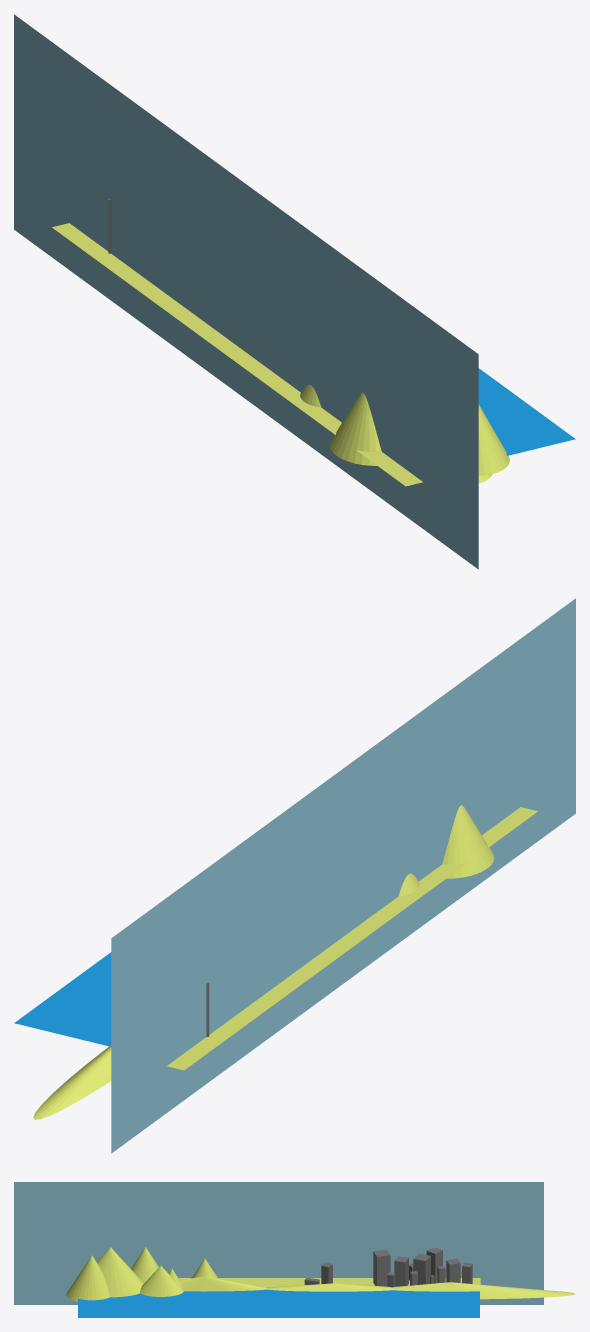
The model's file is background prototype.fbx.
3 renders of one model, top to bottom at view 1: azimuth 30°, elevation 25°; view 2: azimuth 150°, elevation 25°; view 3: azimuth 270°, elevation 25°, orthographic. The views are drawn at different scales.
Parts seen in each view (by area): view 1: Plane.001, Plane.002, Plane, Cone.007, Cone; view 2: Plane.001, Plane.002, Plane, Cone.007, Cone.006; view 3: Plane.001, Plane, Cone.006, Cone.001, Cone, Plane.002, Cone.004, Cone.003, Cone.005, Cube.002, Cone.007, Cube.004 (+6 smaller).
Boxes of the visible parts, box(x1,y1,x2,y2) form: Plane.001: box(14, 14, 478, 569); Plane.002: box(52, 223, 422, 486); Plane: box(478, 368, 575, 455); Cone.007: box(329, 392, 381, 465); Cone: box(478, 404, 509, 475); Plane.001: box(111, 598, 575, 1153); Plane.002: box(167, 807, 537, 1070); Plane: box(14, 952, 111, 1046); Cone.007: box(442, 805, 494, 878); Cone.006: box(33, 1045, 111, 1119); Plane.001: box(14, 1182, 543, 1304); Plane: box(78, 1289, 479, 1317); Cone.006: box(391, 1282, 575, 1299); Cone.001: box(97, 1247, 143, 1297); Cone: box(66, 1255, 109, 1301); Plane.002: box(178, 1278, 480, 1287); Cone.004: box(180, 1276, 267, 1291); Cone.003: box(140, 1266, 183, 1296); Cone.005: box(267, 1283, 392, 1291); Cube.002: box(373, 1249, 390, 1286); Cone.007: box(131, 1247, 158, 1282); Cube.004: box(413, 1253, 430, 1284).
Size of the model in its own units: 547 by 624 by 2590.
